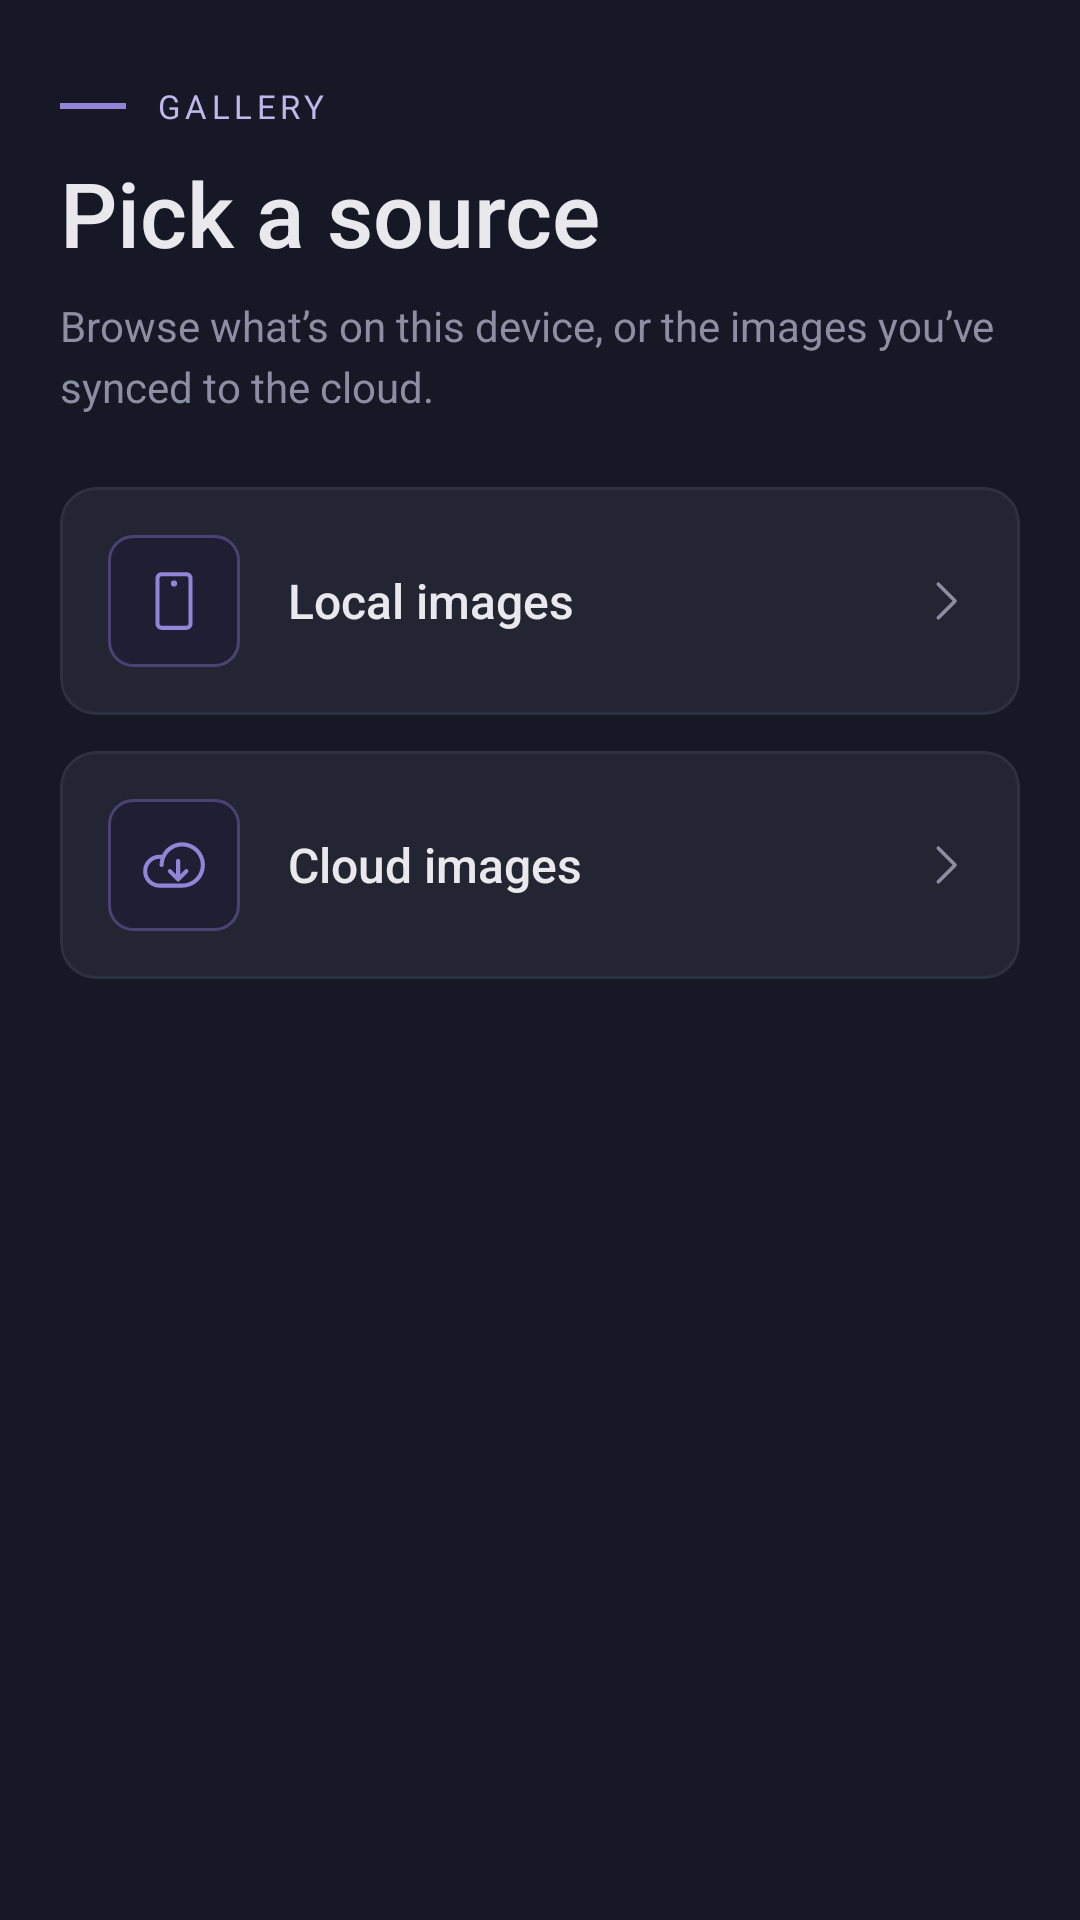

Screen size 1080 x 1920. Icon name, then its center in pixels as [x,y]:
caret right: [946,601], [946,865]
cloud download: [174,865]
device mobile: [174,601]
